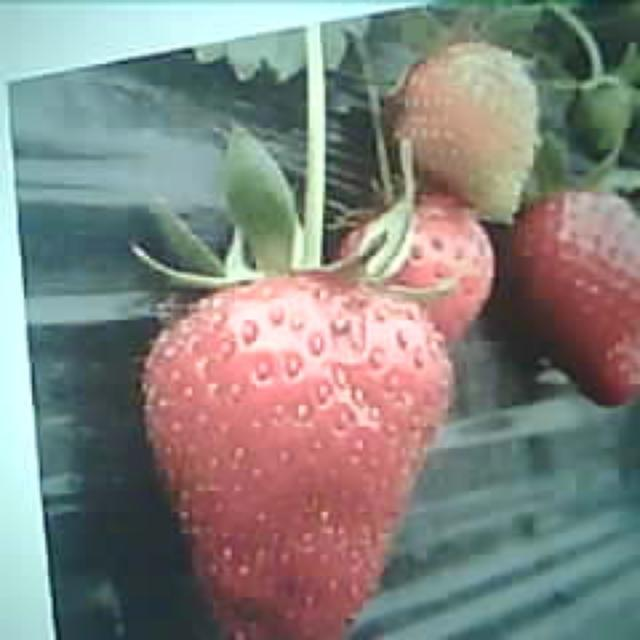strawberry: (140, 272, 452, 640), (517, 194, 640, 404), (396, 40, 537, 222)
